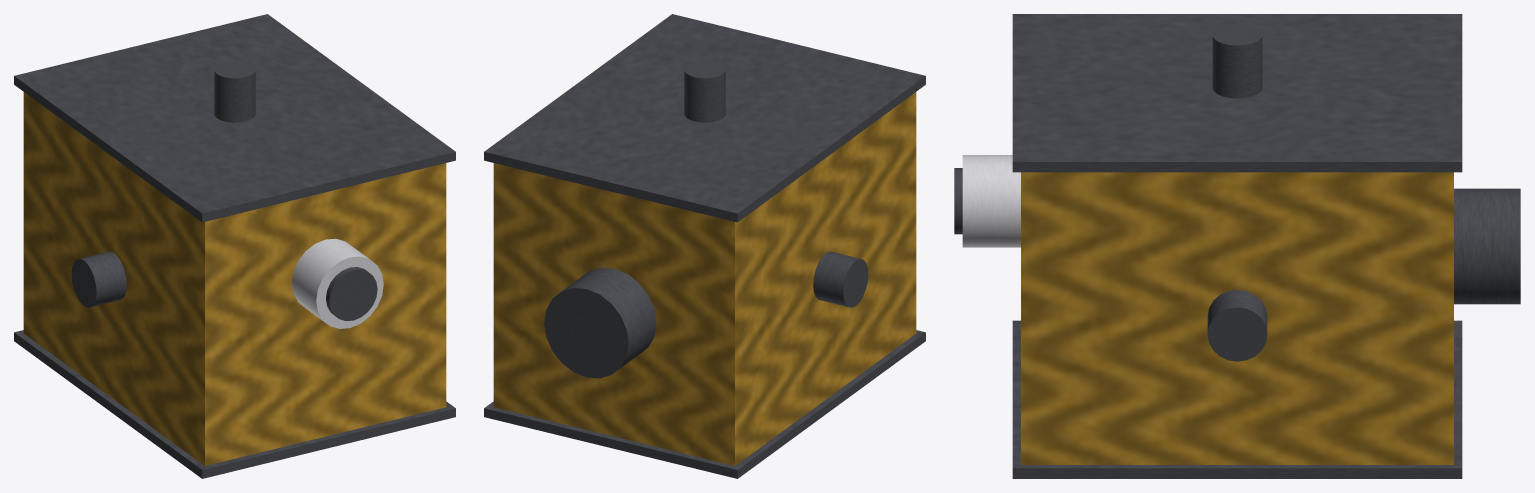
File: sat_cuerpo.obj
3 views of the same model, side by side, from view 1: azimuth 30°, elevation 25°; view 2: azimuth 150°, elevation 25°; view 3: azimuth 270°, elevation 25° (orthographic). The views are drawn at different scales.
Parts seen in each view (by area): view 1: sat_cuerpo; view 2: sat_cuerpo; view 3: sat_cuerpo.
Boxes of the visible parts, x1,y1,x2,y2 form: sat_cuerpo: (14,14,455,478); sat_cuerpo: (484,14,925,478); sat_cuerpo: (954,14,1520,478).
Bounding box in the file's own units: 2.5 × 2.45 × 3.4.
